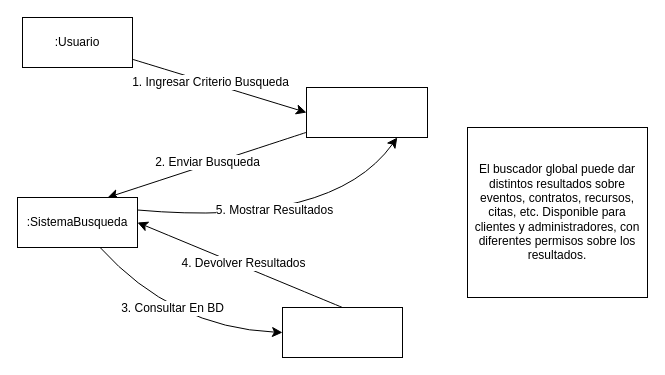
The diagram is 665 pixels wide and 375 high, and some of its shapes have lost their labels. The centre of each missing label's shape, as x and y in pixels:
":BD_Datos" belongs at (x=342, y=332).
":UI_BuscadorGlobal" belongs at (x=367, y=112).
